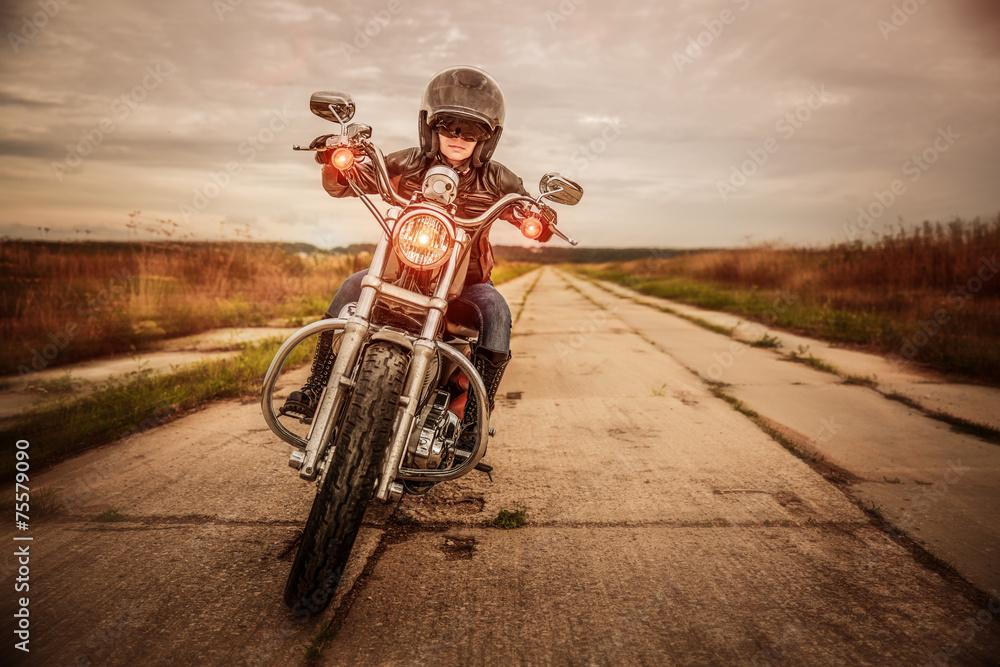helmet: (417, 63, 508, 170)
